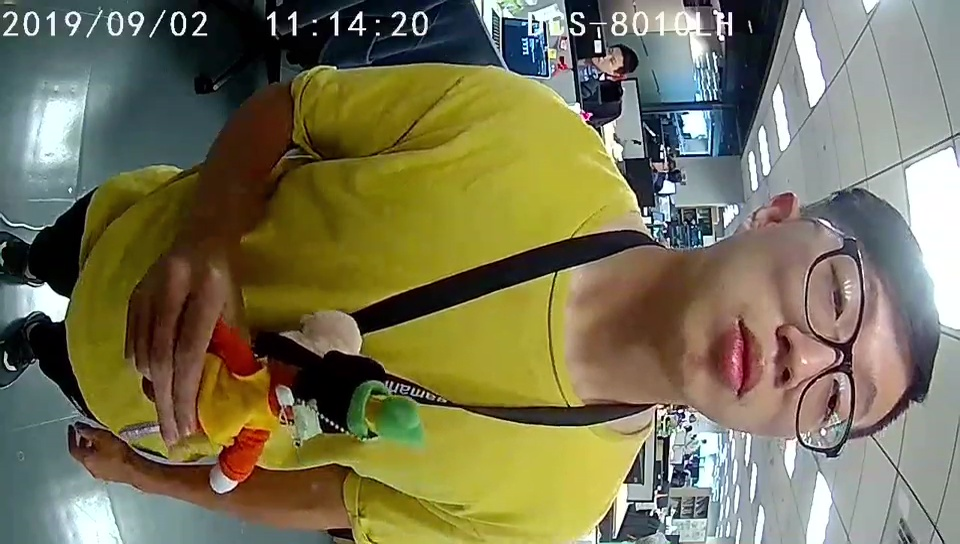goofy: (211, 337, 427, 494)
